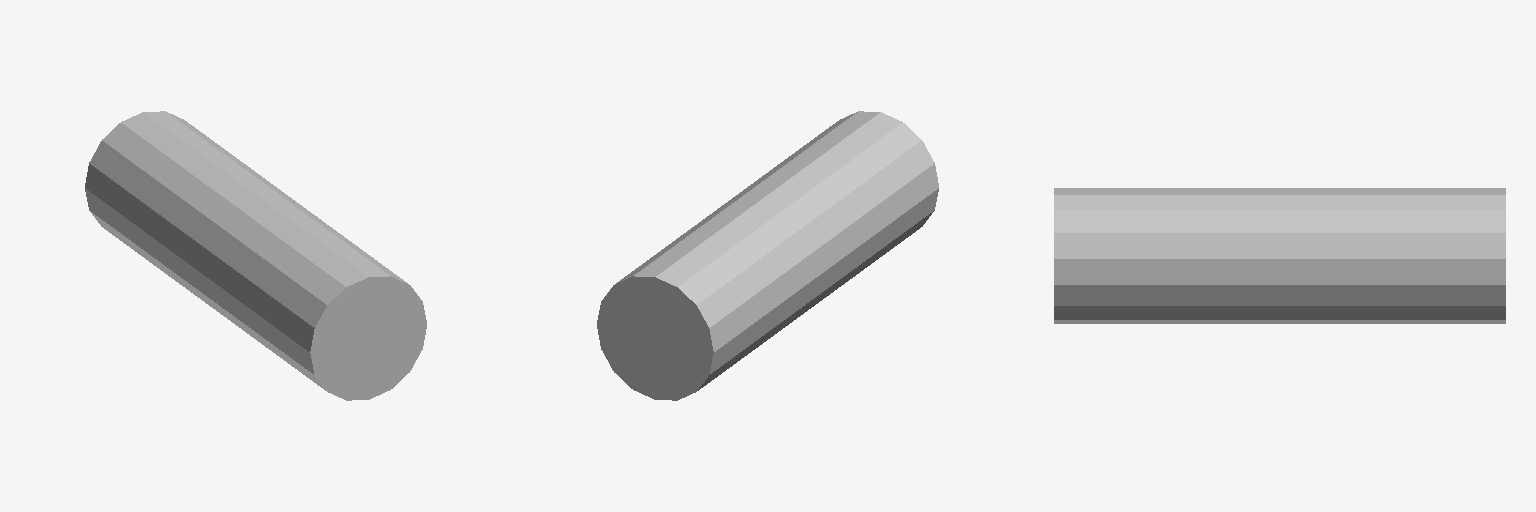
The model's file is pipe_1meter.obj.
3 views of the same model, side by side, from view 1: azimuth 30°, elevation 25°; view 2: azimuth 150°, elevation 25°; view 3: azimuth 270°, elevation 25° (orthographic).
Bounding box in the file's own units: 3 × 3 × 10.